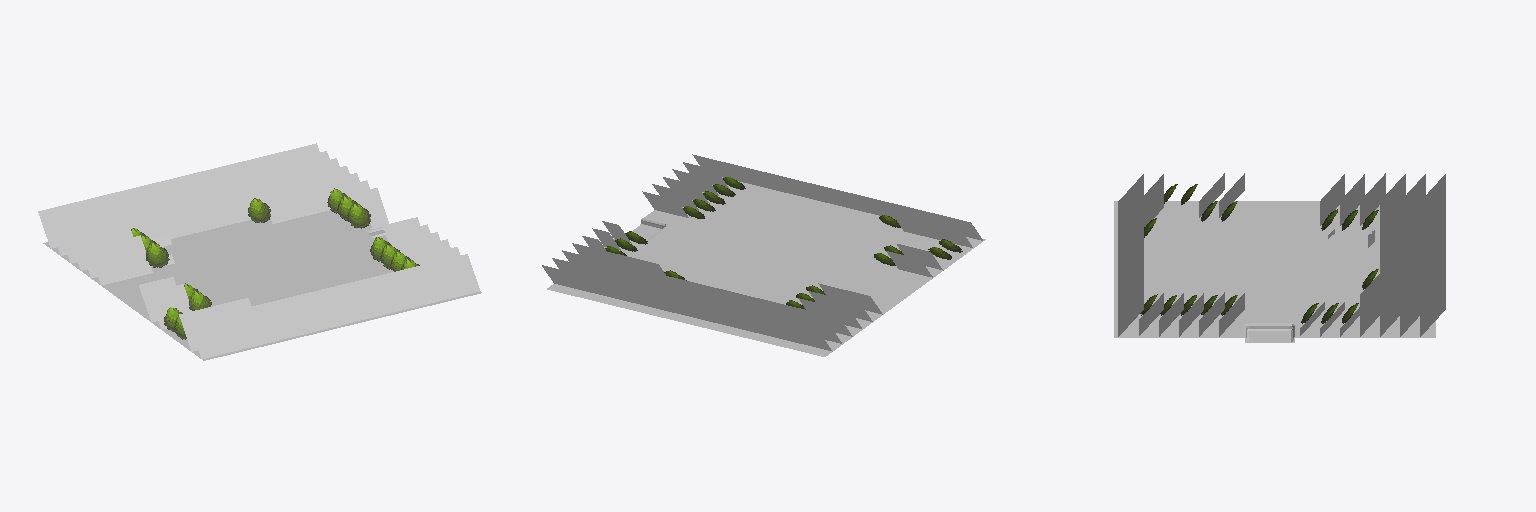
The picture shows the model from 3 angles: view 1: azimuth 30°, elevation 25°; view 2: azimuth 150°, elevation 25°; view 3: azimuth 270°, elevation 25°; orthographic projection.
Parts seen in each view (by area): view 1: polygon7, polygon5, polygon0, polygon6, polygon1, polygon2, polygon12, polygon13; view 2: polygon7, polygon5, polygon2, polygon1, polygon6, polygon0; view 3: polygon7, polygon5, polygon2, polygon1, polygon6, polygon0, polygon13, polygon12, polygon10.
Boxes of the visible parts, <box> form: polygon7: <box>38,143,479,358</box>; polygon5: <box>103,213,385,316</box>; polygon0: <box>131,188,419,339</box>; polygon6: <box>136,241,368,302</box>; polygon1: <box>123,235,377,306</box>; polygon2: <box>43,210,481,360</box>; polygon12: <box>164,225,262,261</box>; polygon13: <box>174,231,249,256</box>; polygon7: <box>542,154,982,351</box>; polygon5: <box>636,192,947,312</box>; polygon2: <box>547,177,985,356</box>; polygon1: <box>652,201,905,303</box>; polygon6: <box>666,207,892,297</box>; polygon0: <box>605,177,962,309</box>; polygon7: <box>1118,173,1445,336</box>; polygon5: <box>1144,201,1375,337</box>; polygon2: <box>1114,201,1435,337</box>; polygon1: <box>1154,206,1324,319</box>; polygon6: <box>1164,210,1314,315</box>; polygon0: <box>1140,184,1378,323</box>; polygon13: <box>1335,248,1365,277</box>; polygon12: <box>1325,244,1375,281</box>; polygon10: <box>1164,209,1314,293</box>.
Bounding box in the file's own units: 8.25 × 0.9209 × 8.25.
18 materials, 1 textured.